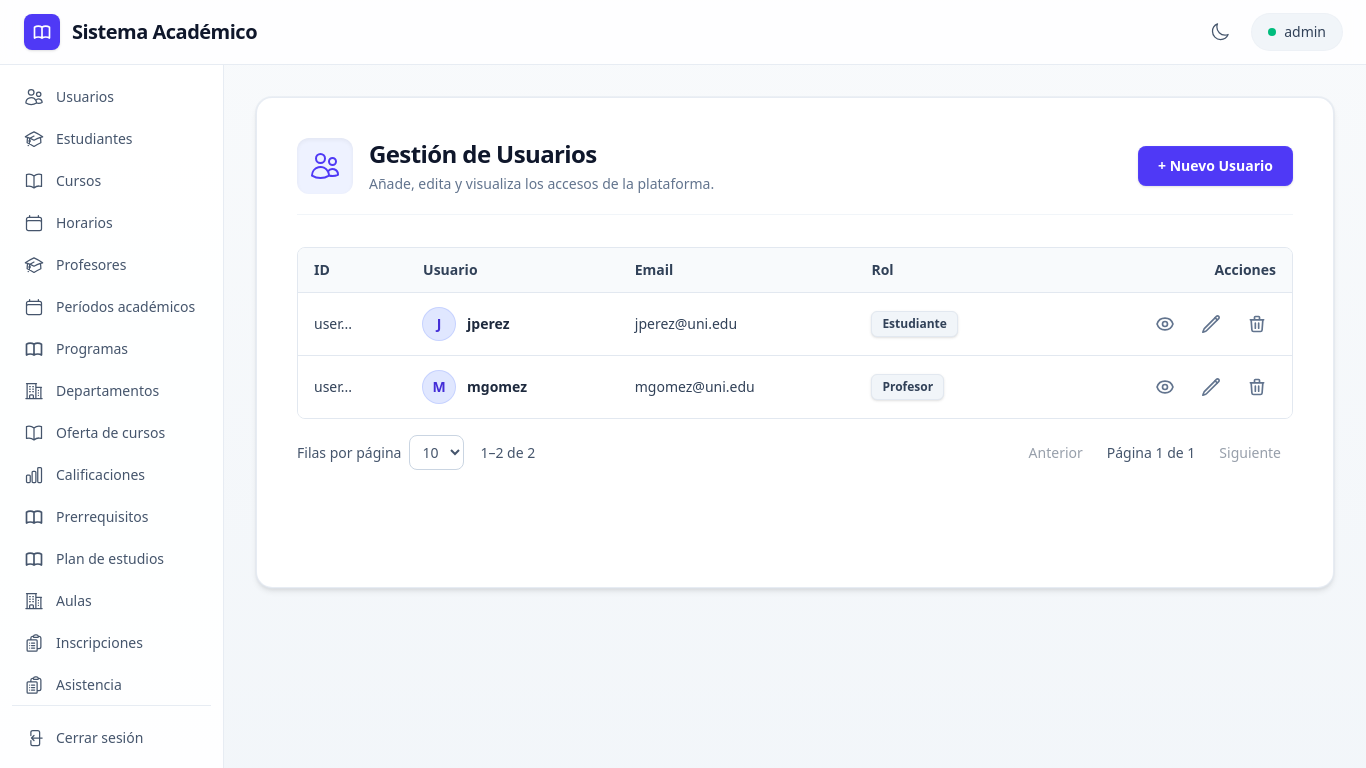
Scenario: UsuariosPage › permite abrir el modal para editar y guardar cambios
This screenshot has width=1366, height=768.
Check: the text "jperez" is shown, box [467,314,510,334]
Click the button named "Editar" in the row of "jperez@uni.edu" at {"x": 1211, "y": 324}, box [1192,305,1230,343]
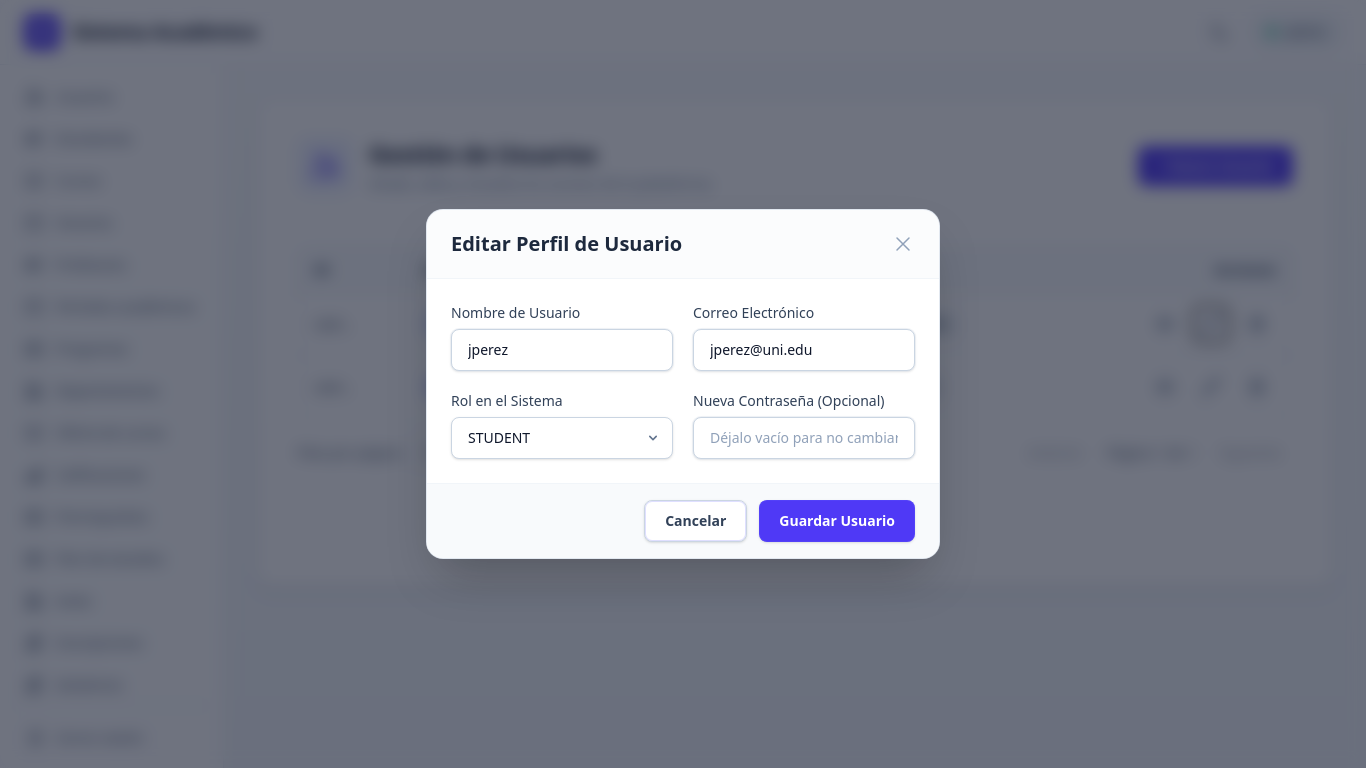
Check: the heading "Editar Perfil de Usuario" is shown, box [451,230,682,258]
# Editar el email
Replace the text in the field labelled "Correo Electrónico" with "jperez_modificado@uni.edu" at {"x": 804, "y": 350}, box [693,329,915,371]
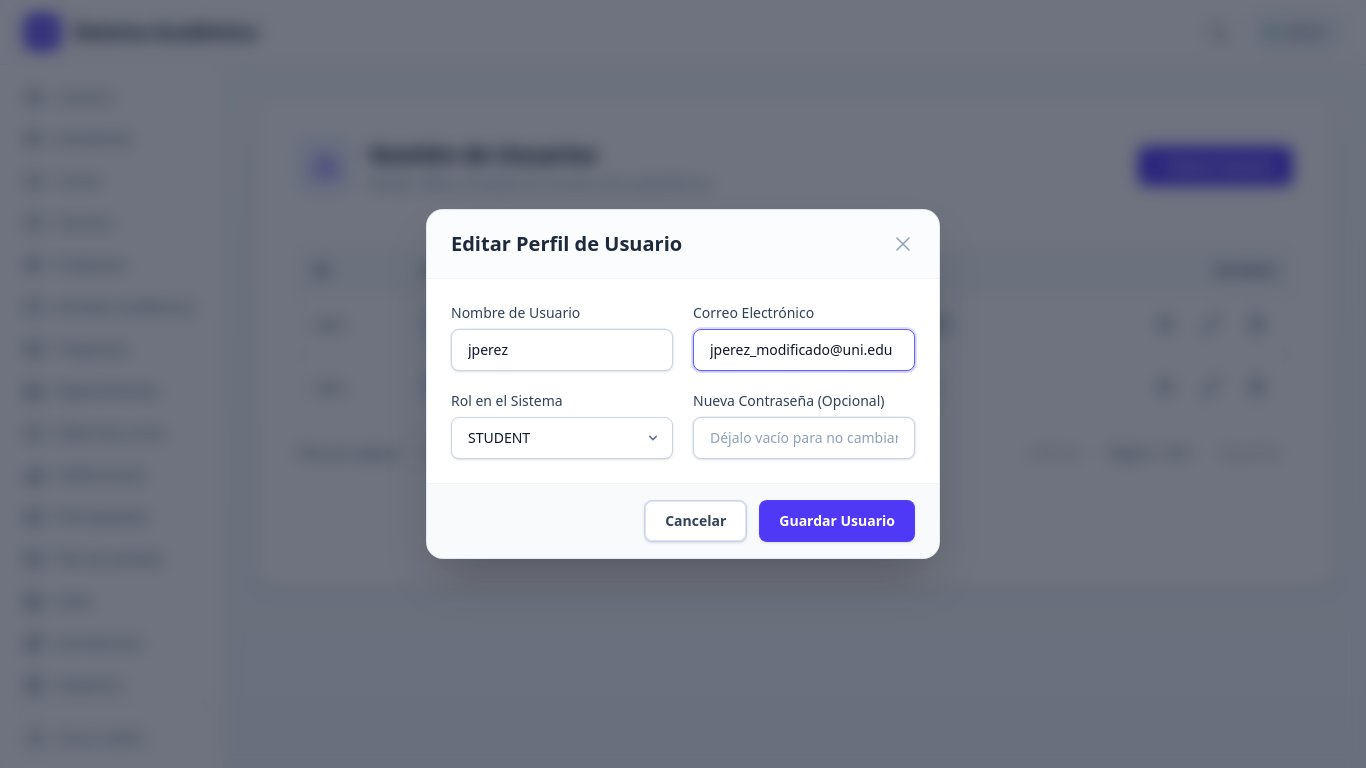
Click the button "Guardar Usuario" at {"x": 837, "y": 521}, box [759,500,915,542]
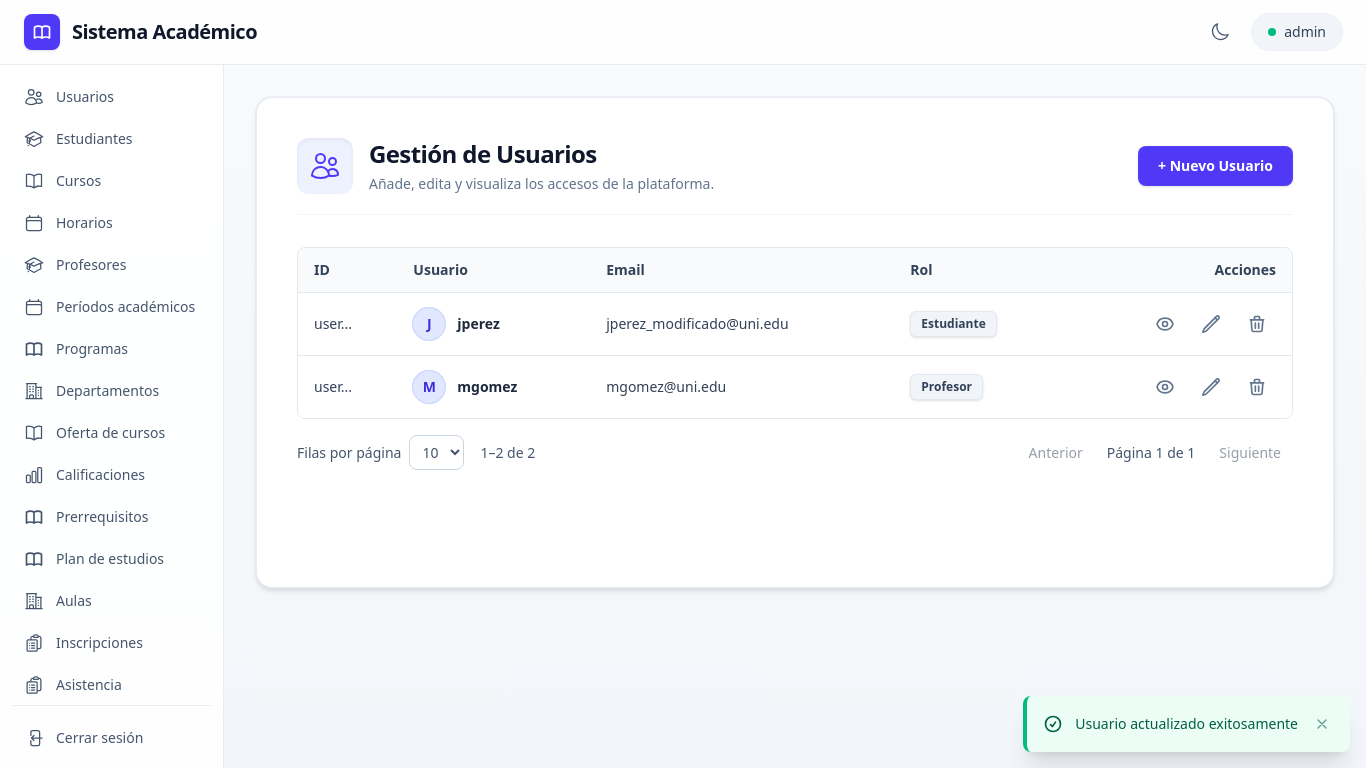
Check: the text "Usuario actualizado exitosamente" is shown, box [1075,714,1298,734]
